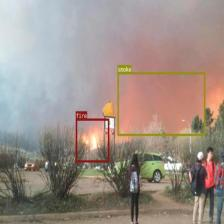fire: (76, 118, 108, 162)
smoke: (117, 72, 205, 135)
